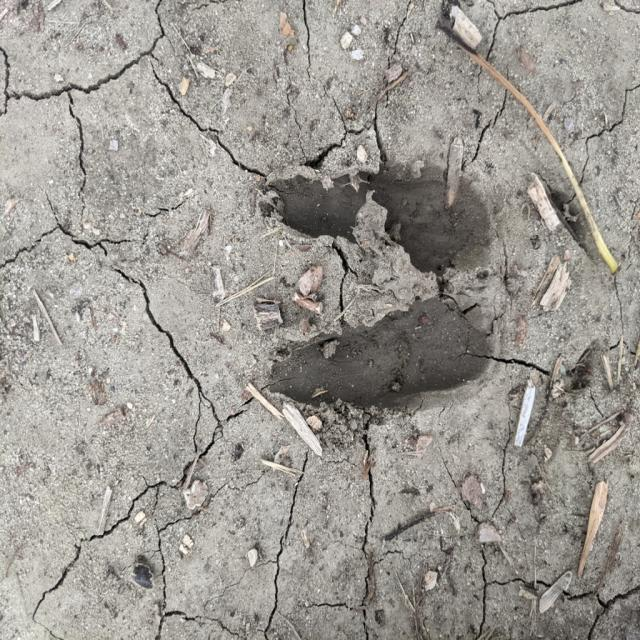deer: (260, 173, 494, 394)
